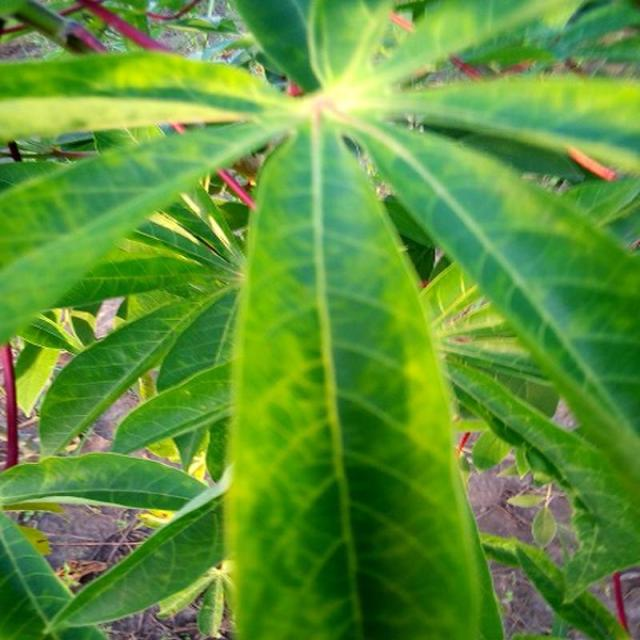cassava leaf: (1, 0, 640, 639), (224, 110, 506, 639)
